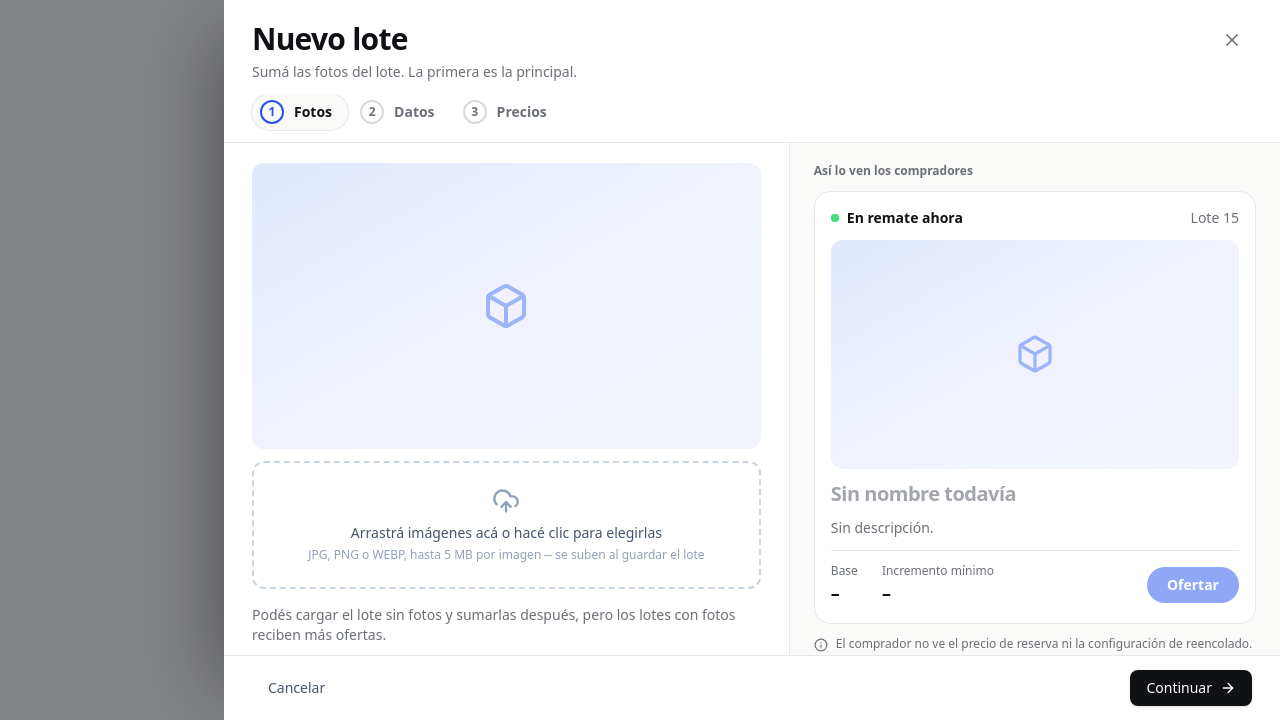
it: LoteDrawer › no deja avanzar del paso de datos sin nombre ni categoría, y marca los errores
The width and height of the screenshot is (1280, 720).
Click the button "Continuar": (1191, 688) [1130,670,1252,706]
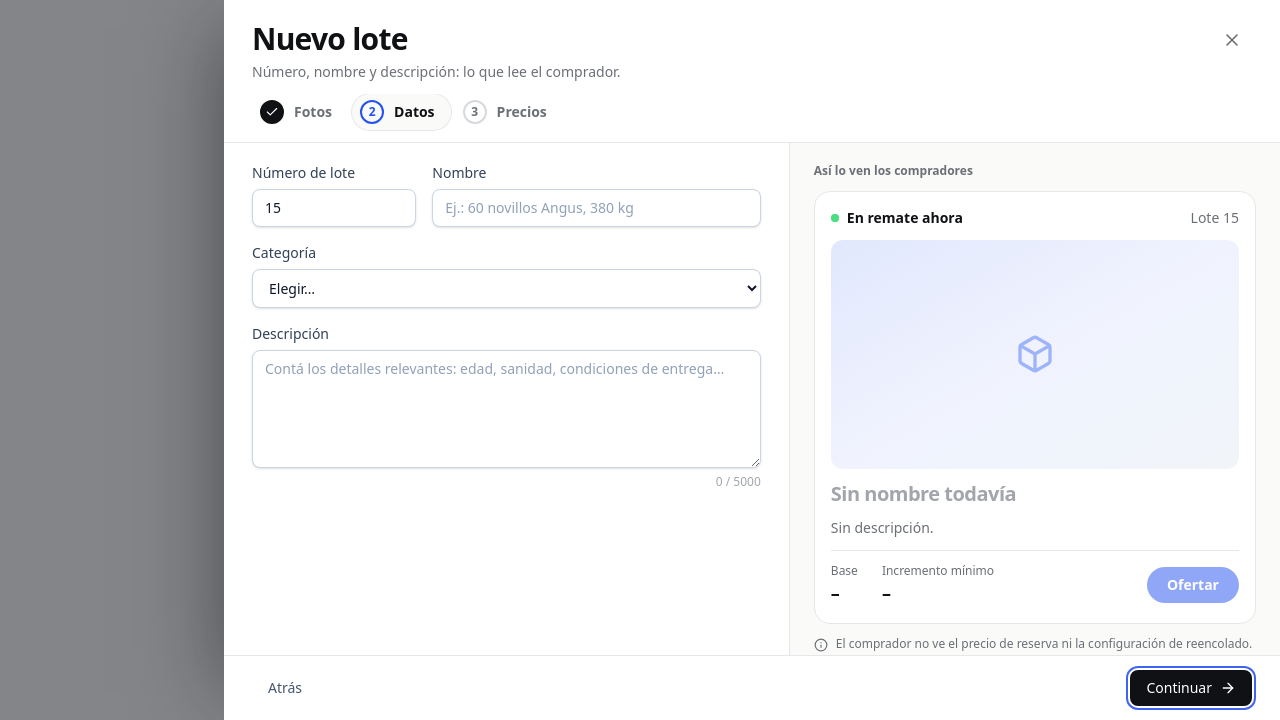
Replace the text in the field labelled "Número de lote" with "20": (334, 208) [252,188,416,226]
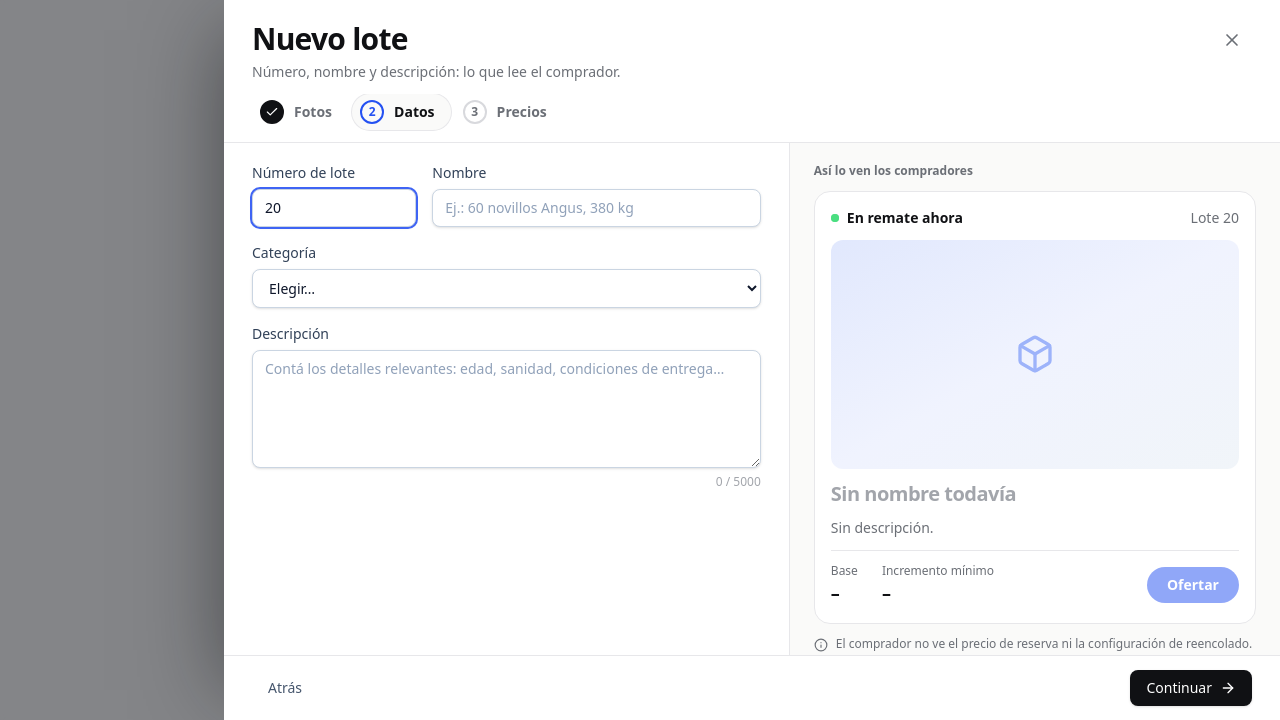
Click the button "Continuar": (1191, 688) [1130,670,1252,706]
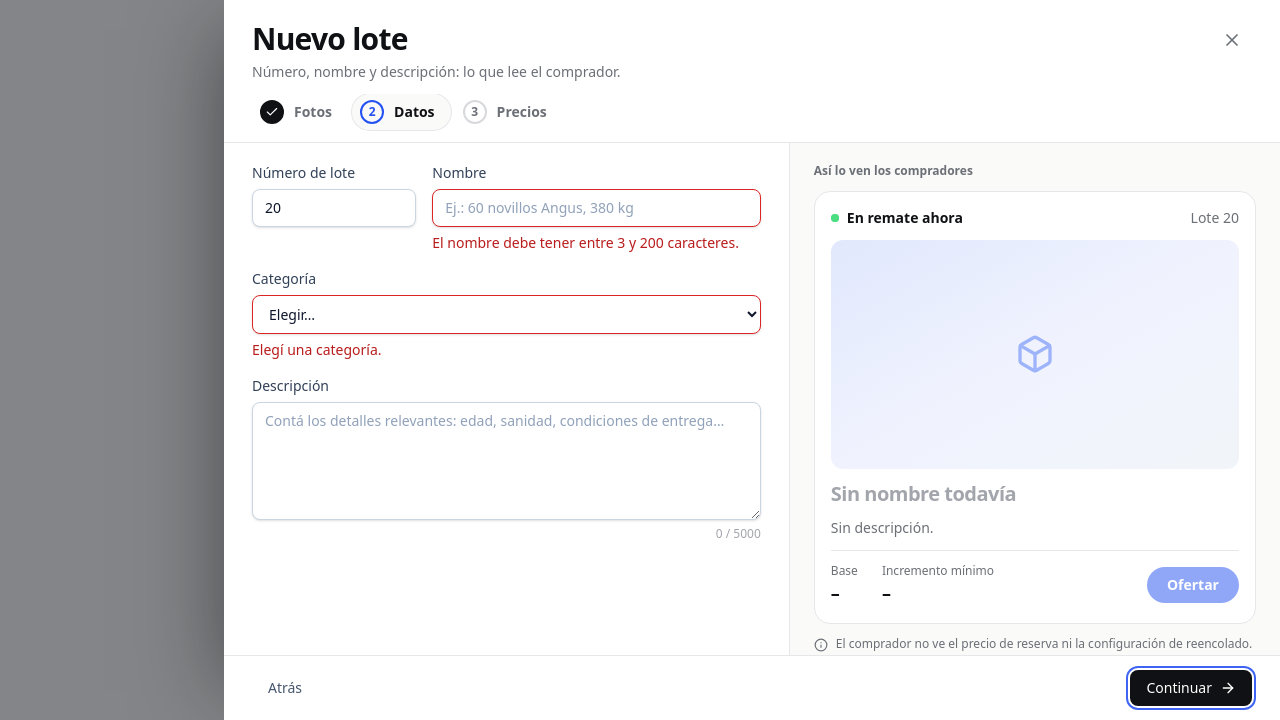
expect the text "El nombre debe tener entre 3 y 200 caracteres." is shown: met, box [432,232,761,252]
expect the text "Elegí una categoría." is shown: met, box [252,340,382,358]
